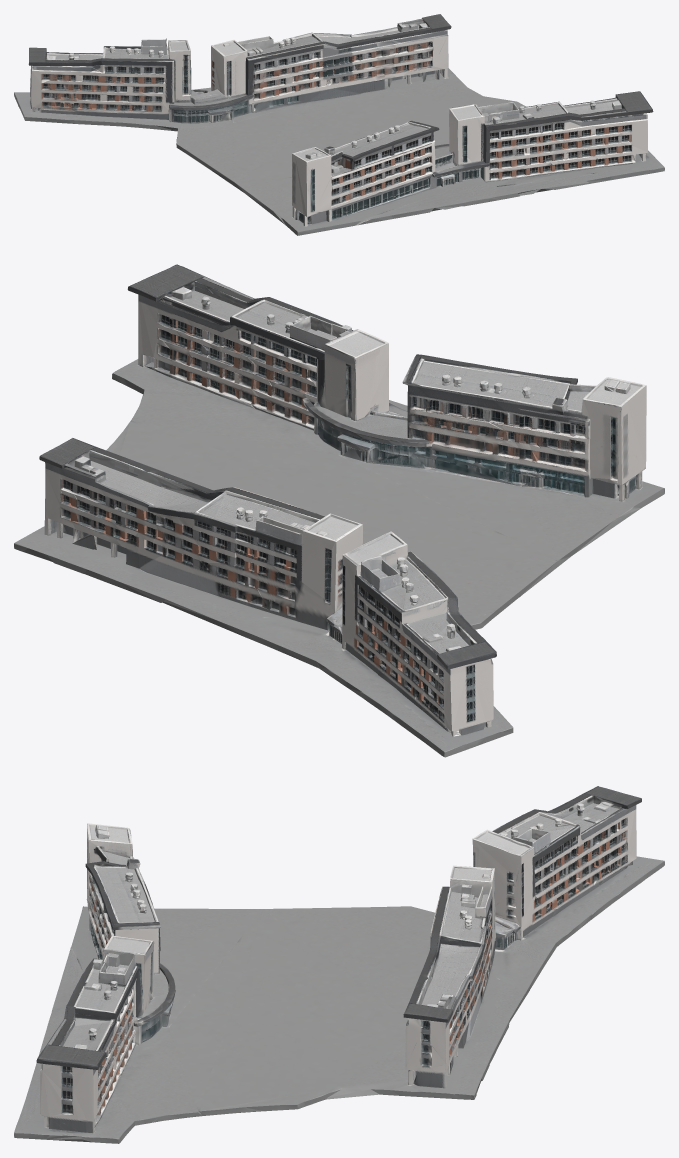
3 views of the same model, one above another, from view 1: azimuth 30°, elevation 25°; view 2: azimuth 150°, elevation 25°; view 3: azimuth 270°, elevation 25° (orthographic). The views are drawn at different scales.
Bounding box in the file's own units: 1.9 × 0.3016 × 1.8.
1 material, 1 textured.
